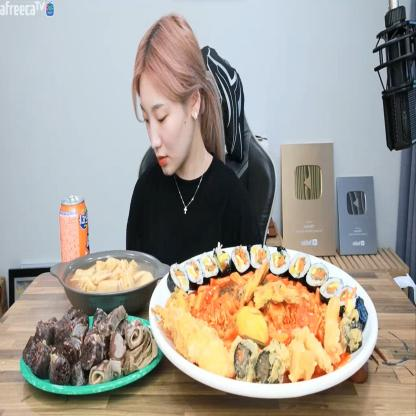streamer: (126, 12, 252, 268)
